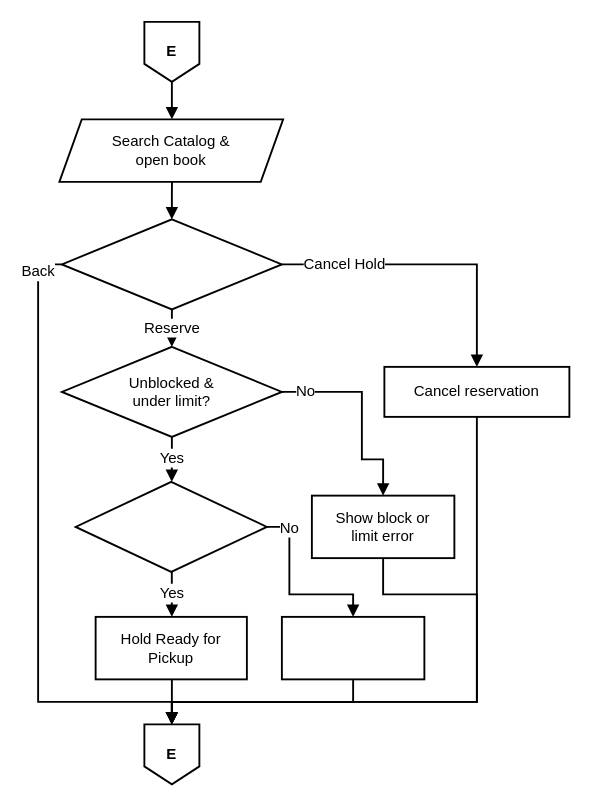
Some shapes in this 593 by 808 pixel diagram are drawn without their labels. Here are the shapes that lost their labels. From the top down, the box of each, then its label:
(60, 218, 282, 310): Reserve or cancel hold?
(74, 480, 267, 572): Copy available?
(280, 615, 425, 680): Join waitlist queue
